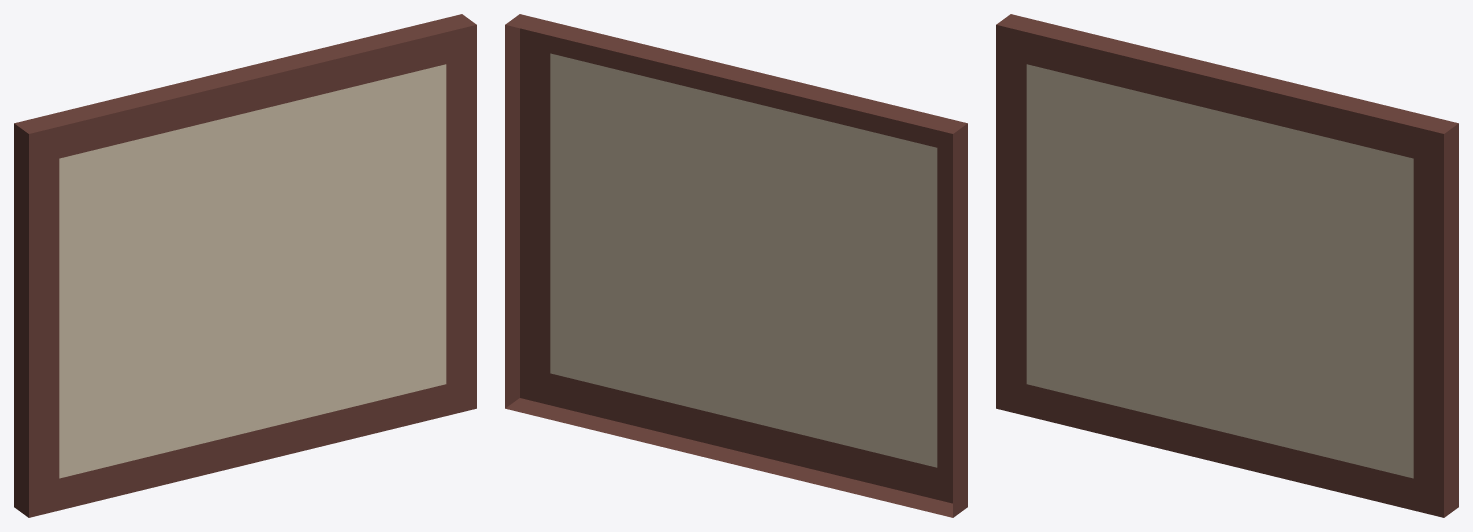
File: Paint_8.fbx
The picture shows the model from 3 angles, left to right: view 1: azimuth 30°, elevation 25°; view 2: azimuth 150°, elevation 25°; view 3: azimuth 330°, elevation 25°; orthographic projection.
Parts seen in each view (by area): view 1: polySurface2222; view 2: polySurface2222; view 3: polySurface2222.
Part boxes in pixels (bbox=[...]): polySurface2222: bbox=[14, 14, 476, 517]; polySurface2222: bbox=[505, 14, 967, 517]; polySurface2222: bbox=[996, 14, 1458, 517].
Bounding box in the file's own units: 1.41 × 1.15 × 0.08.
1 material, 1 textured.
